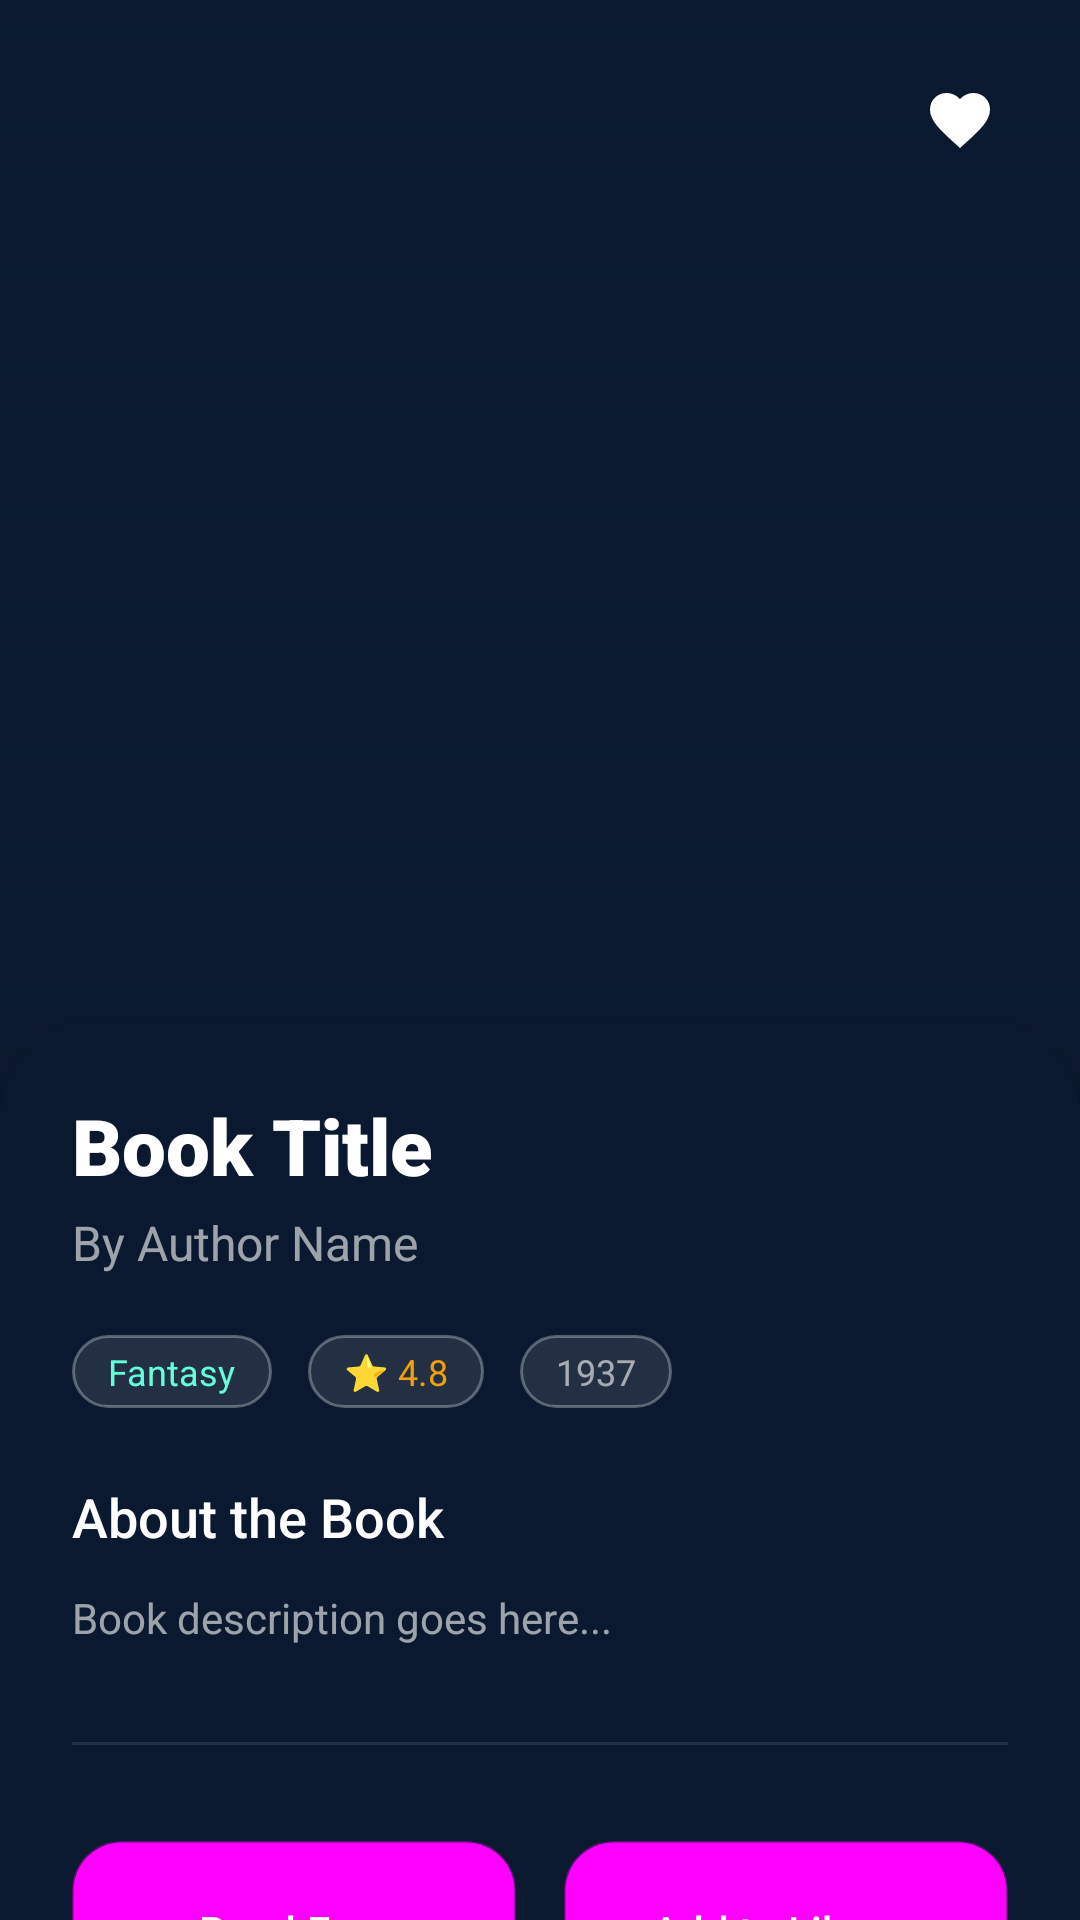

Point at icon controls on the screen. Image size 1080 × 1920, points as [x,y].
heart: [960,120]
